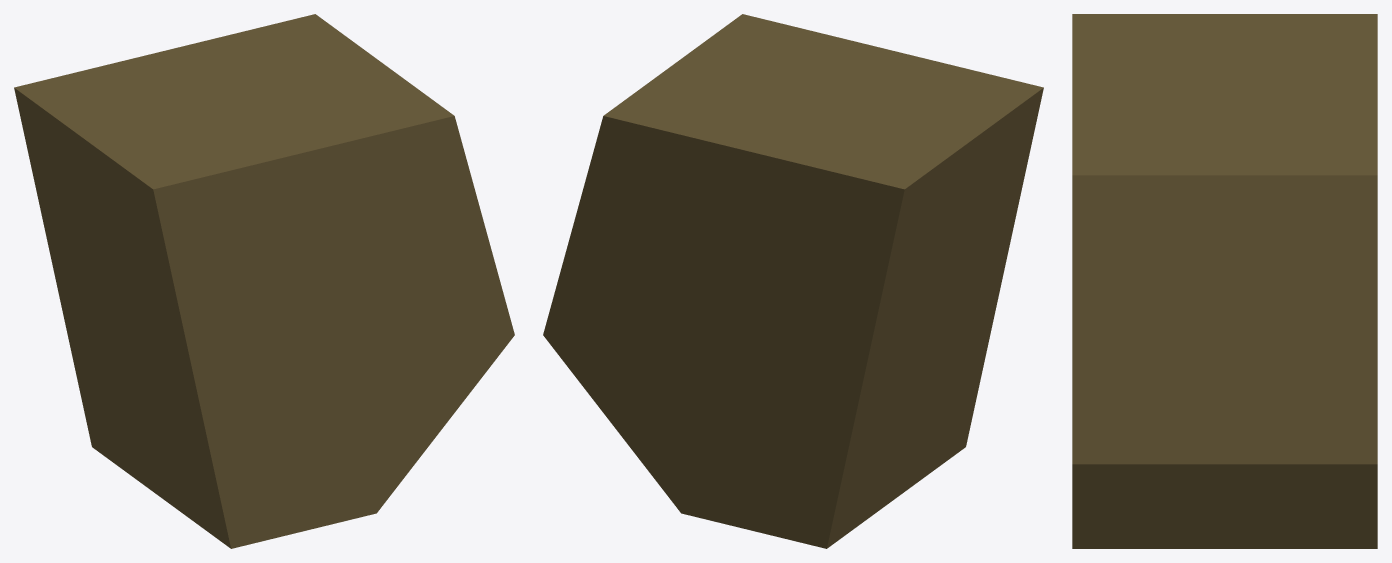
The model's file is chart_obstacle_066.obj.
The picture shows the model from 3 angles, left to right: view 1: azimuth 30°, elevation 25°; view 2: azimuth 150°, elevation 25°; view 3: azimuth 270°, elevation 25°; orthographic projection. The views are drawn at different scales.
Parts seen in each view (by area): view 1: chart_obstacle_066; view 2: chart_obstacle_066; view 3: chart_obstacle_066.
Boxes of the visible parts, <box> form: chart_obstacle_066: <box>14,14,514,548</box>; chart_obstacle_066: <box>543,14,1043,548</box>; chart_obstacle_066: <box>1072,14,1377,548</box>.
Size of the model in its own units: 12 by 12 by 8.
